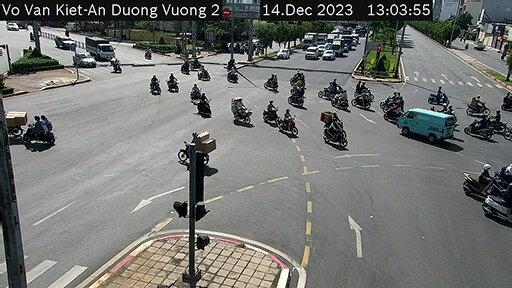car: (389, 103, 458, 144), (70, 52, 98, 70), (317, 47, 343, 59), (301, 46, 319, 63), (276, 45, 287, 64)
motorbike: (469, 161, 493, 200), (232, 97, 262, 127), (26, 116, 55, 143), (470, 112, 499, 136), (323, 116, 345, 144), (279, 104, 298, 136), (196, 89, 217, 117), (286, 66, 308, 92), (491, 108, 510, 135), (430, 85, 452, 108), (475, 90, 493, 116), (145, 73, 162, 100), (165, 71, 181, 99), (316, 80, 339, 98), (267, 98, 281, 127), (186, 81, 205, 102), (331, 91, 345, 114), (386, 101, 397, 125)
truck: (83, 35, 119, 62)
